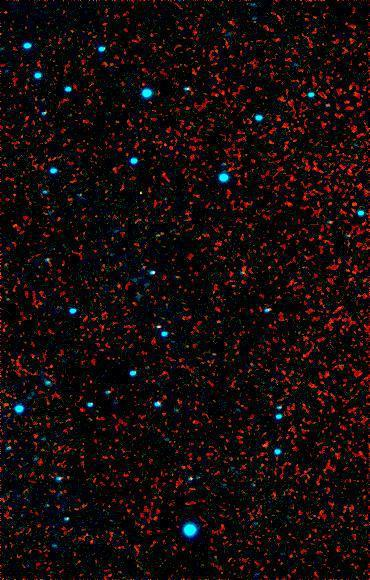star: (249, 430, 279, 460)
